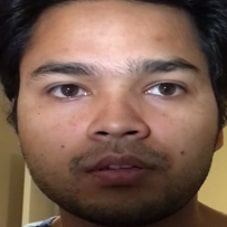awake: (26, 47, 214, 193)
